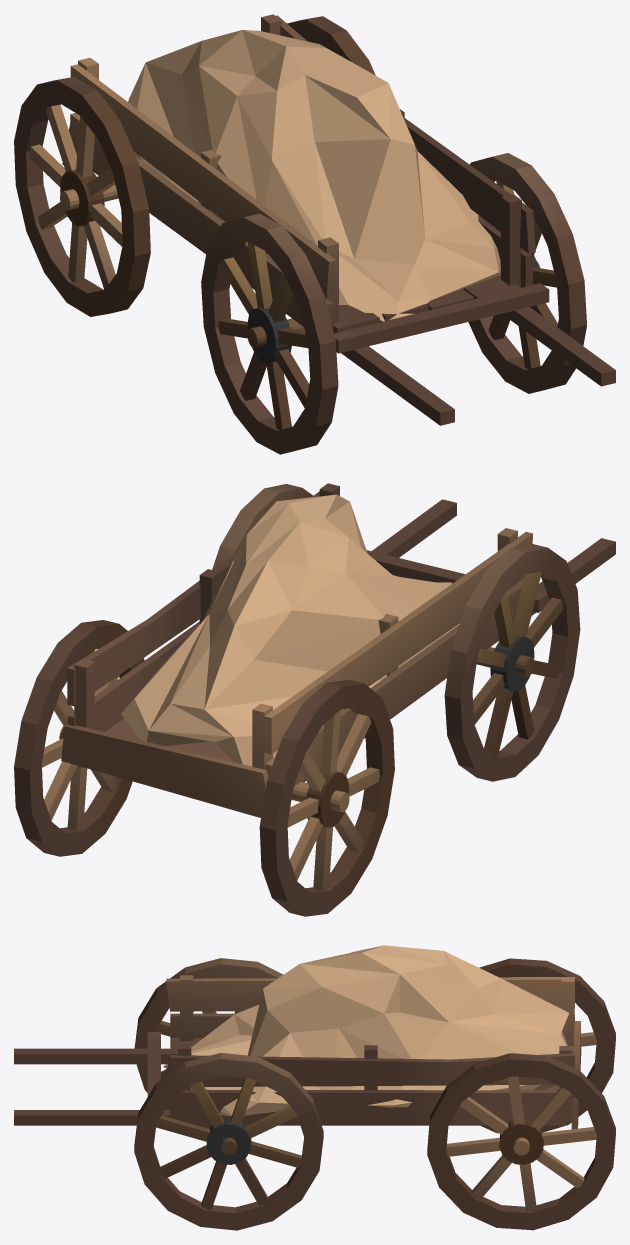
Rendered from Cart Small 1.glb.
3 views of the same model, one above another, from view 1: azimuth 30°, elevation 25°; view 2: azimuth 150°, elevation 25°; view 3: azimuth 270°, elevation 25° (orthographic). The views are drawn at different scales.
Parts seen in each view (by area): view 1: Cart Small size 1; view 2: Cart Small size 1; view 3: Cart Small size 1.
Boxes of the visible parts, x1,y1,x2,y2 form: Cart Small size 1: [14, 14, 615, 454]; Cart Small size 1: [14, 483, 615, 916]; Cart Small size 1: [14, 945, 615, 1230].
Size of what is drawn, in the model's own units: 1.37 by 1.38 by 3.23.
Materials: 1 (1 with a texture image).
